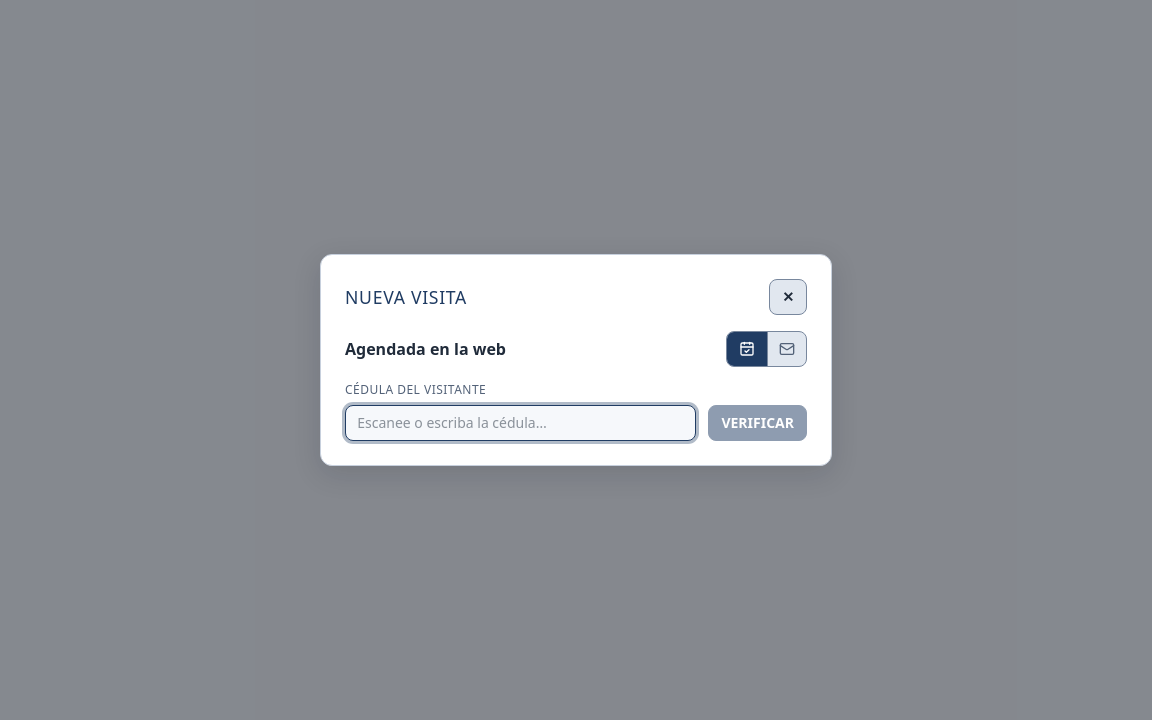
Test case: NuevaVisitaModal › el interruptor pasa al formulario por correo y lo exige completo
Click the button named "Autorizada por correo" at coordinates (786, 349), box top-left (767, 332), bottom-right (806, 366)
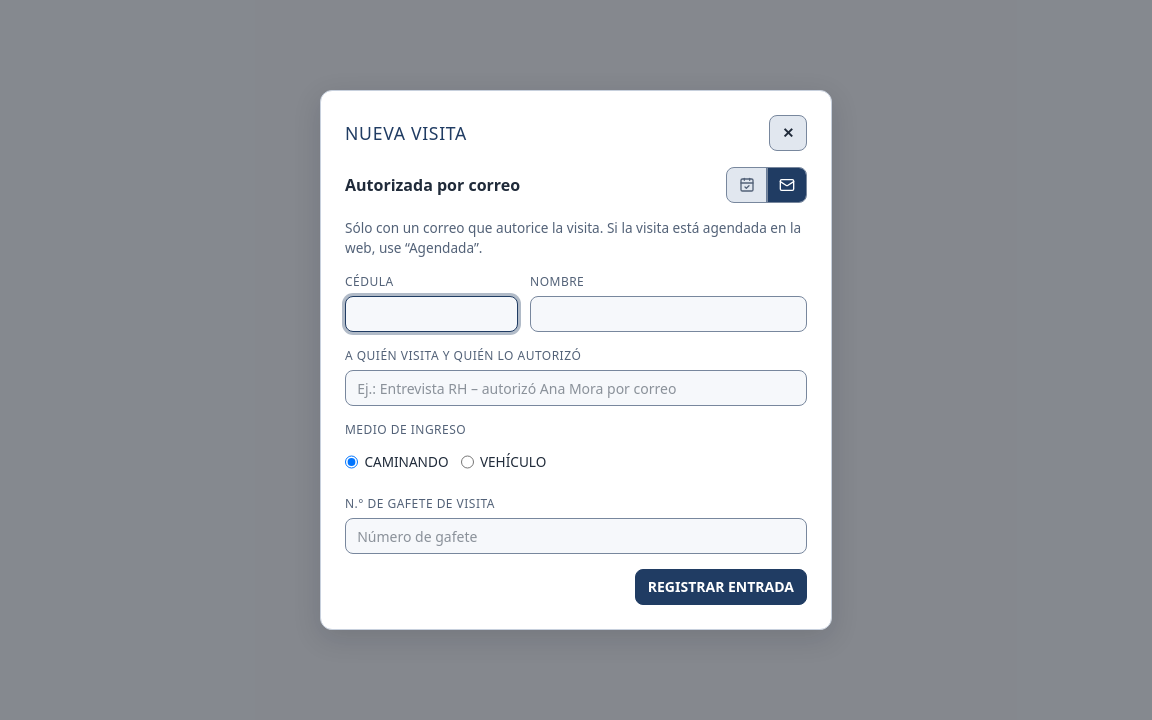
Type "200" into the field labelled "Cédula" at coordinates (432, 314), box top-left (345, 296), bottom-right (518, 332)
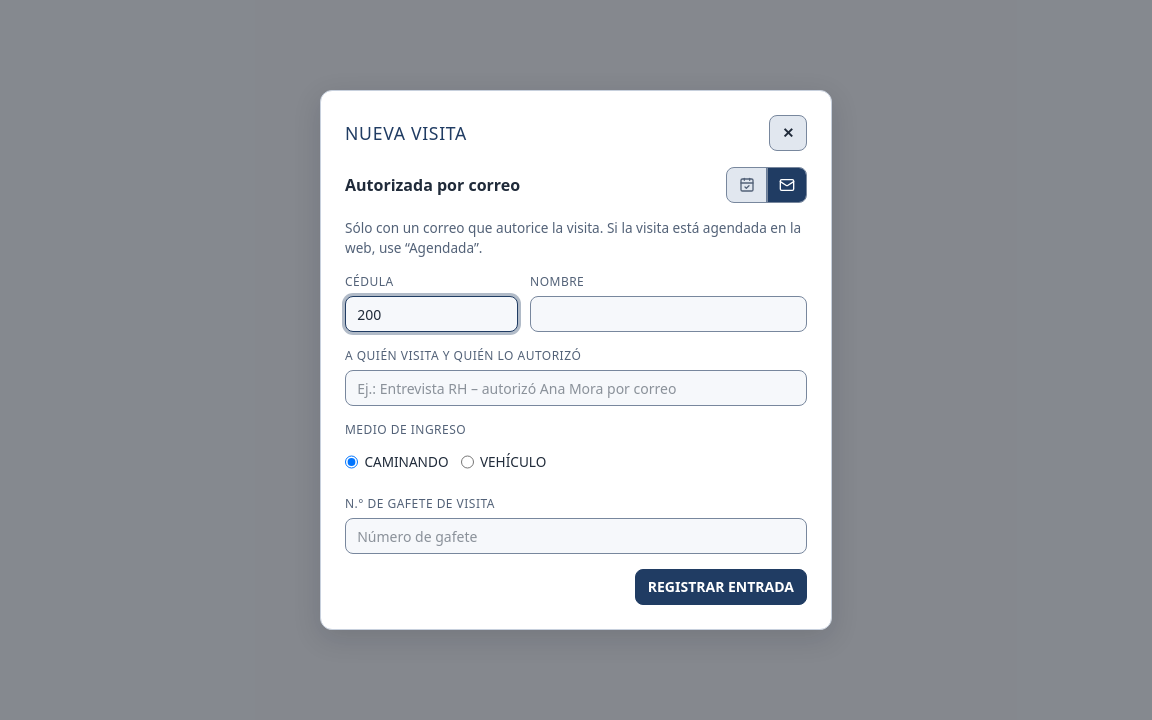
Click the button "Registrar entrada" at coordinates (721, 587), box top-left (635, 569), bottom-right (807, 605)
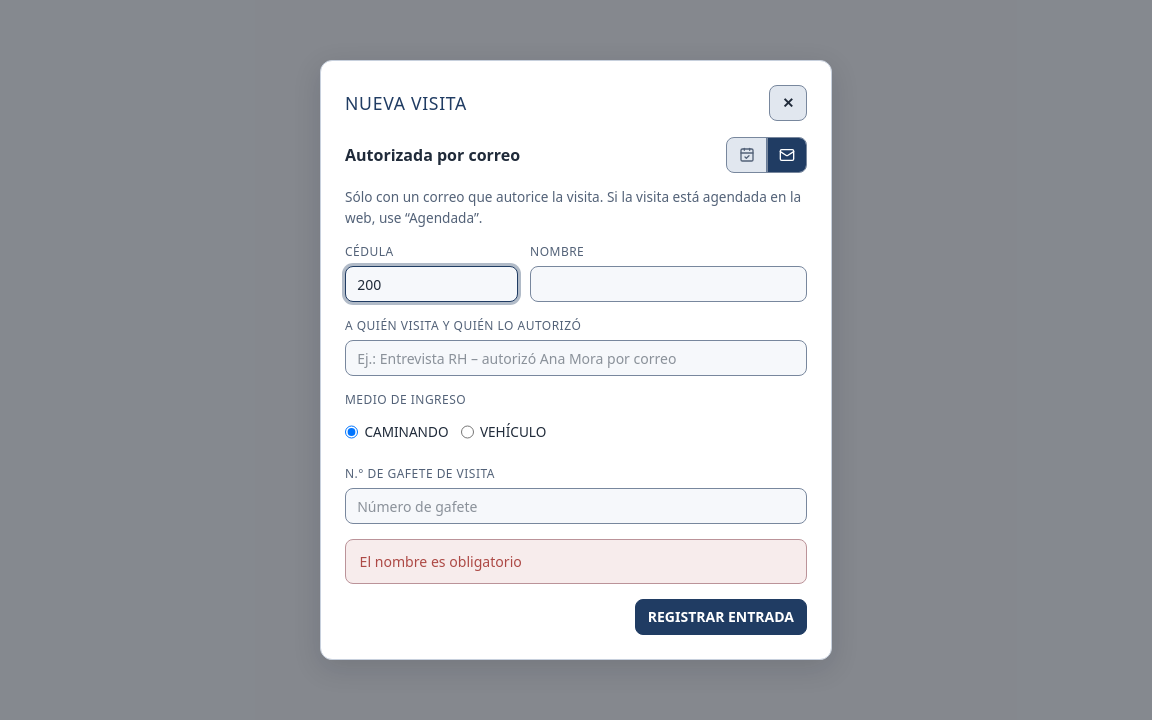
Result: the message reads "El nombre es obligatorio" at top-left (360, 552), bottom-right (522, 570)
